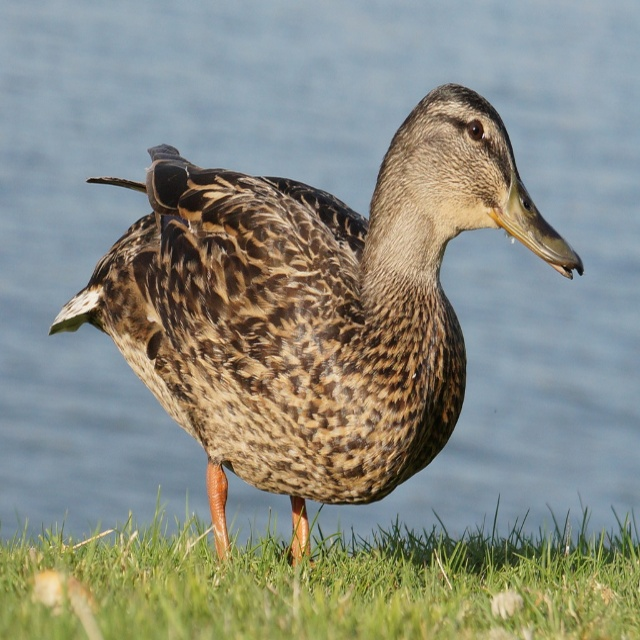Duck: (52, 77, 582, 577)
